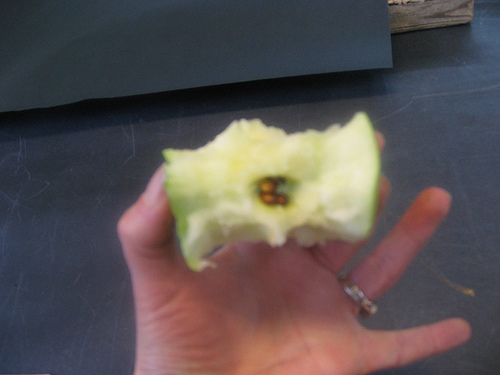apple: (161, 110, 383, 273)
